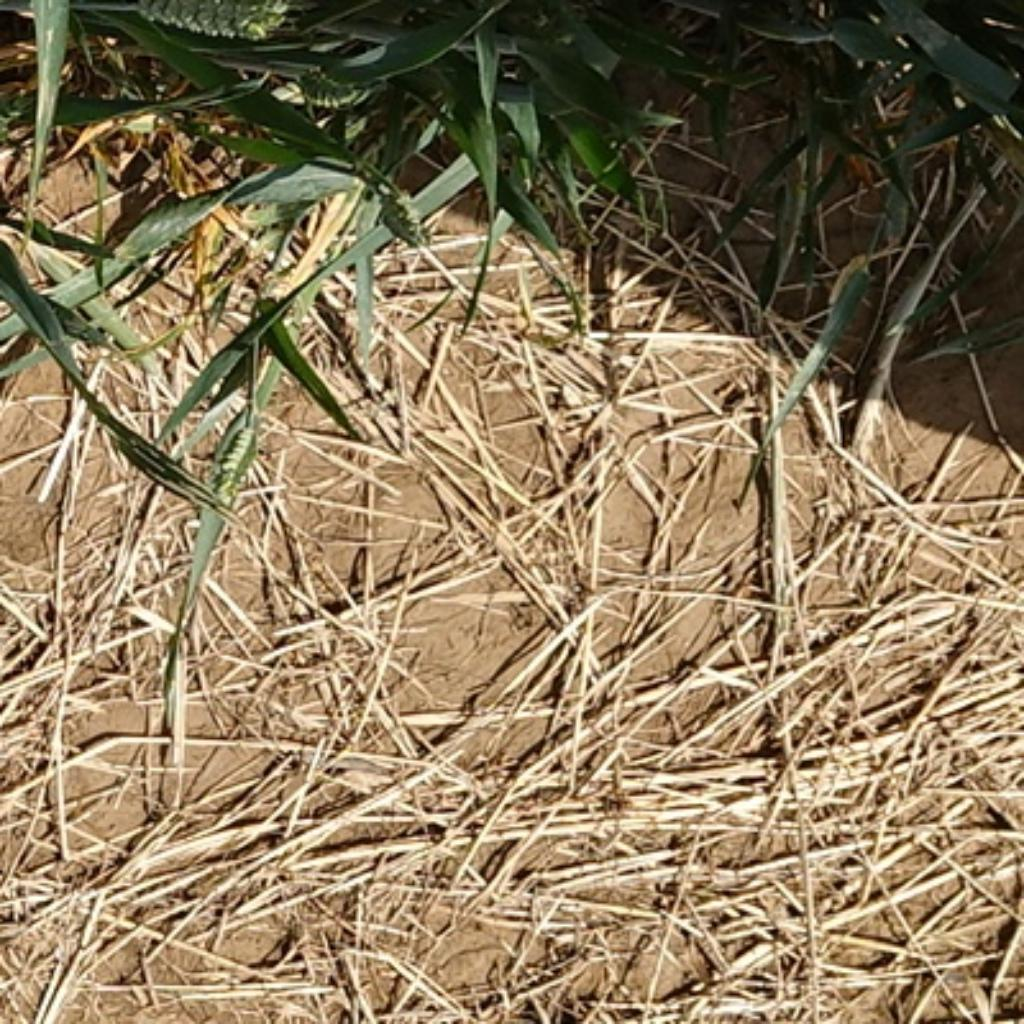0-0: (125, 0, 296, 43), (204, 409, 263, 514), (373, 180, 433, 253), (291, 62, 364, 113), (0, 204, 5, 256)
